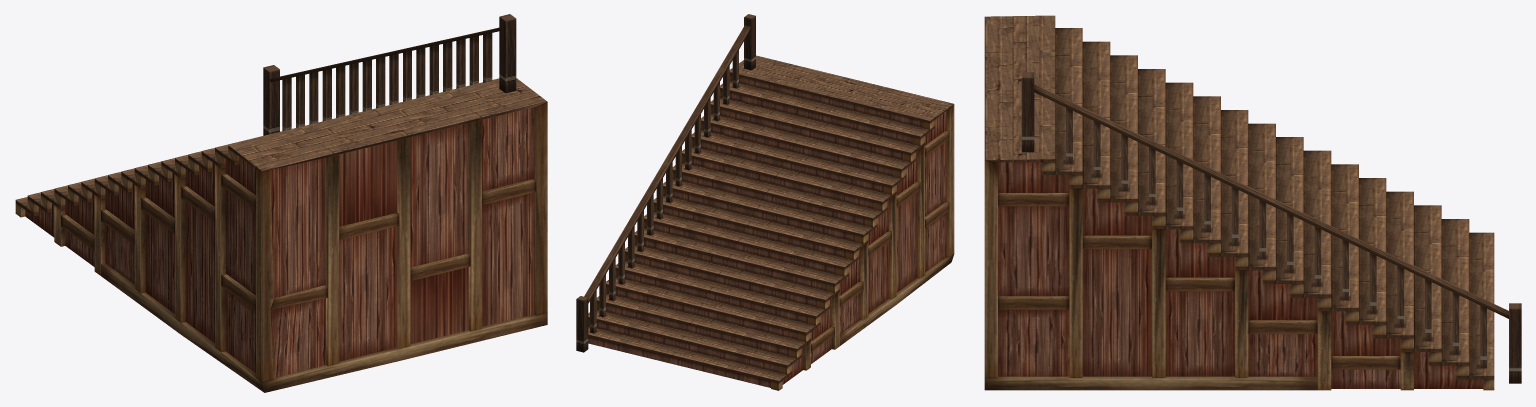
File: a_SWGstair1B.glb
The picture shows the model from 3 angles, left to right: view 1: azimuth 30°, elevation 25°; view 2: azimuth 150°, elevation 25°; view 3: azimuth 270°, elevation 25°; orthographic projection. The views are drawn at different scales.
Visible parts, largest first — view 1: a_SWGstair1B; view 2: a_SWGstair1B; view 3: a_SWGstair1B.
Part boxes in pixels (left/top/right/bottom): a_SWGstair1B: left=15, top=14, right=547, bottom=392; a_SWGstair1B: left=576, top=14, right=954, bottom=390; a_SWGstair1B: left=984, top=15, right=1521, bottom=390.
Bounding box in the file's own units: 4.02 × 4.01 × 6.33.
2 materials, 2 textured.
